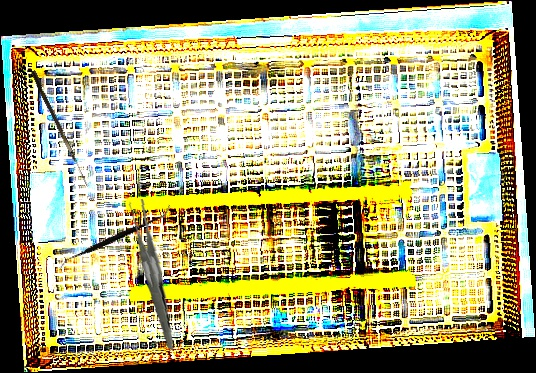Dressing Forceps: (116, 198, 187, 350)
Hook Surgical: (28, 69, 94, 188)
Spatula Surgical: (58, 172, 172, 302)
